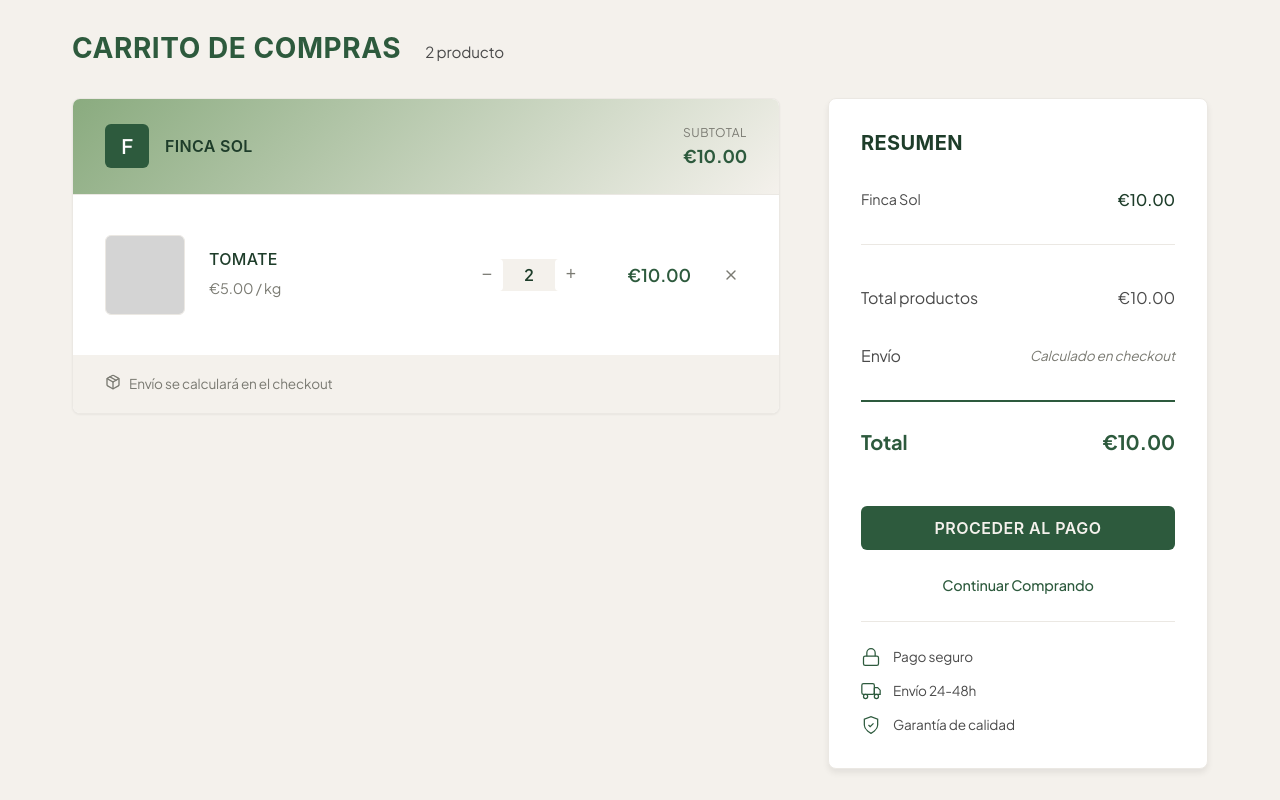
CartPage › decrease quantity updates display
The width and height of the screenshot is (1280, 800).
Check: the heading "Tomate" is shown, box [209,249,278,269]
Click the button "−" at (487, 275), box [471,259,503,291]
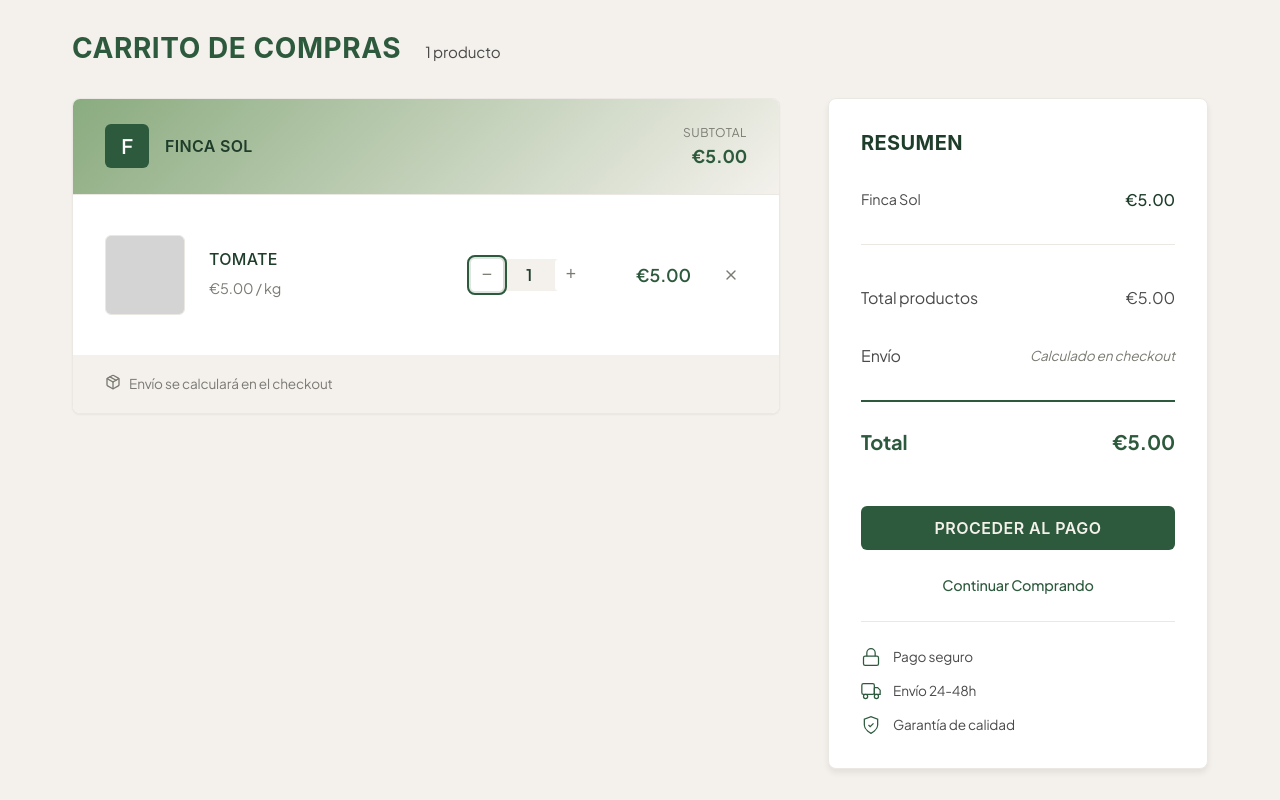
Check: the text "1" is shown, box [526,264,532,285]
